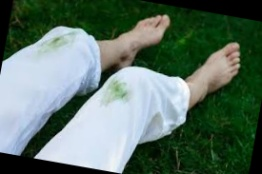earth: (108, 80, 128, 100), (50, 33, 68, 50)
